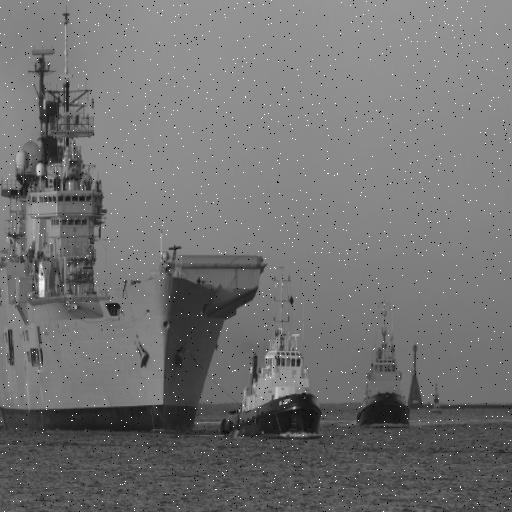Portanaves: (1, 1, 267, 437)
